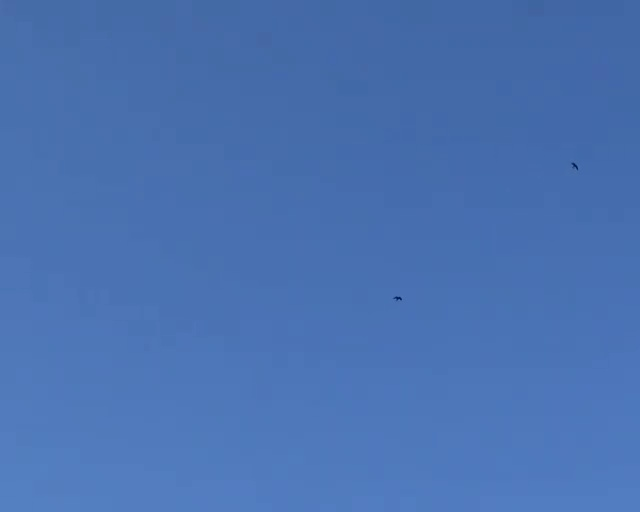BIRD: (393, 295, 403, 301)
